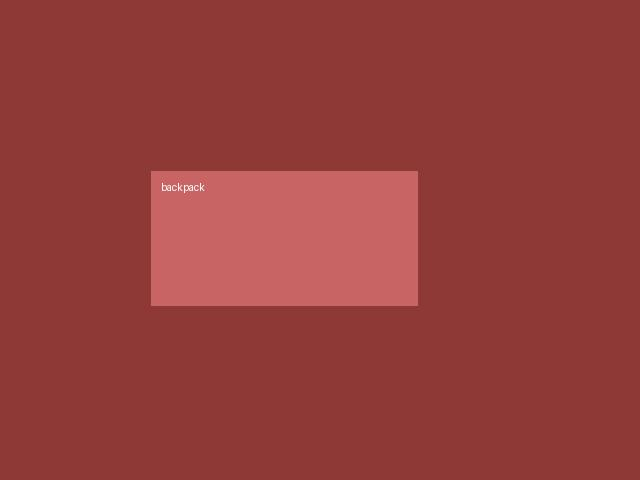backpack: (151, 171, 417, 305)
